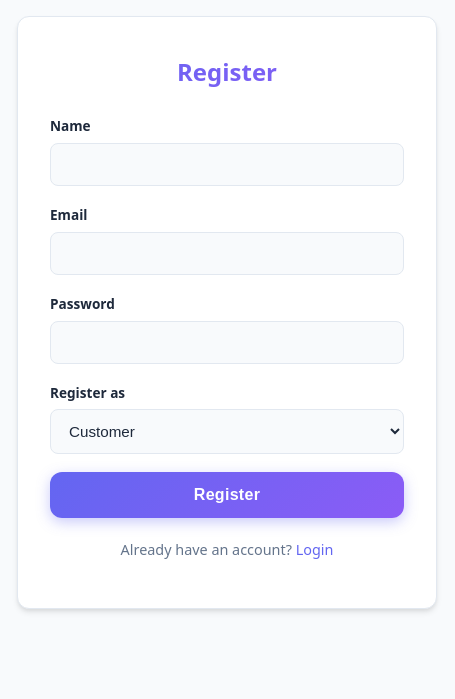
Test: Register › shows error message on failed registration
Type "John" into the field labelled "Name" at (227, 165), box top-left (50, 143), bottom-right (404, 186)
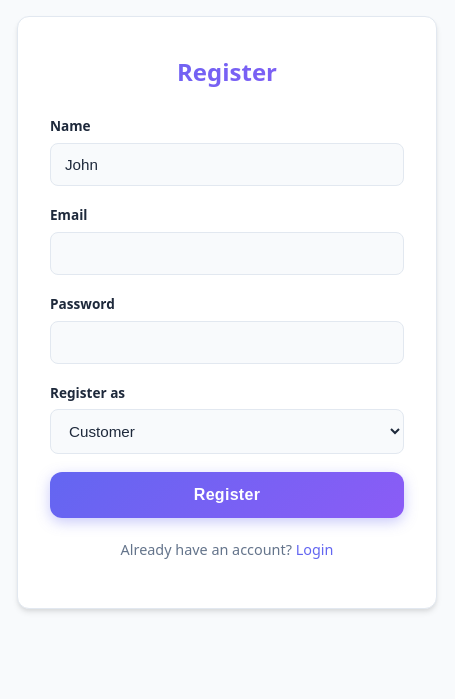
Type "existing@test.com" into the field labelled "Email" at (227, 253), box top-left (50, 232), bottom-right (404, 275)
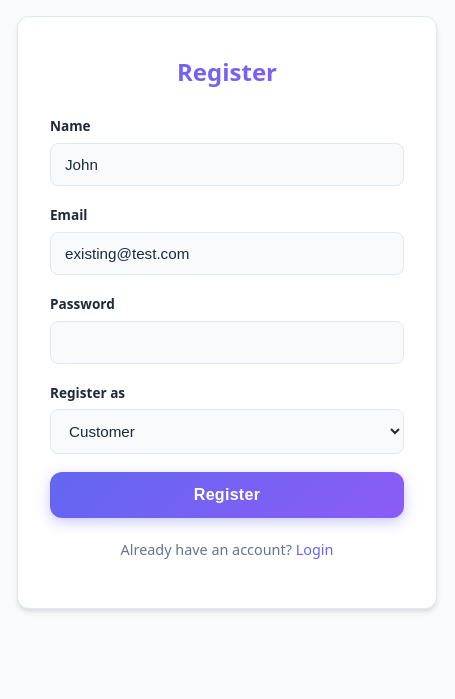
Type "john123" into the password field labelled "Password" at (227, 342), box top-left (50, 321), bottom-right (404, 364)
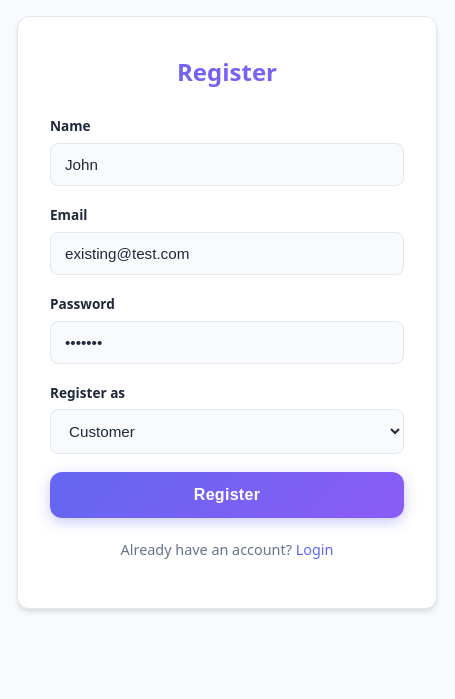
Click the button "Register" at (227, 495), box top-left (50, 472), bottom-right (404, 518)
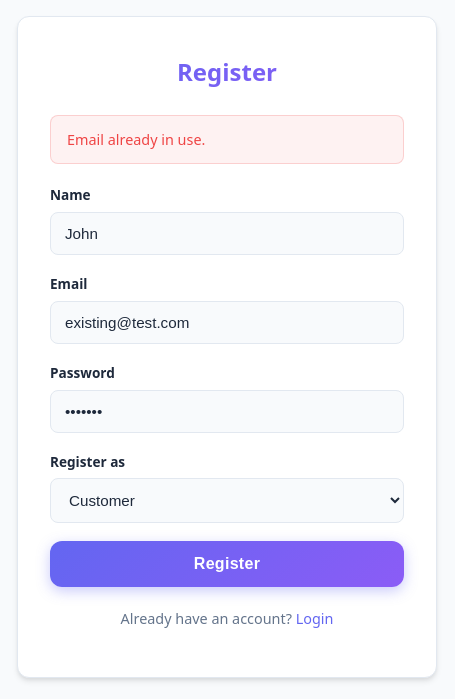
Expected: the text "Email already in use." is shown, top-left (50, 115), bottom-right (404, 164)
